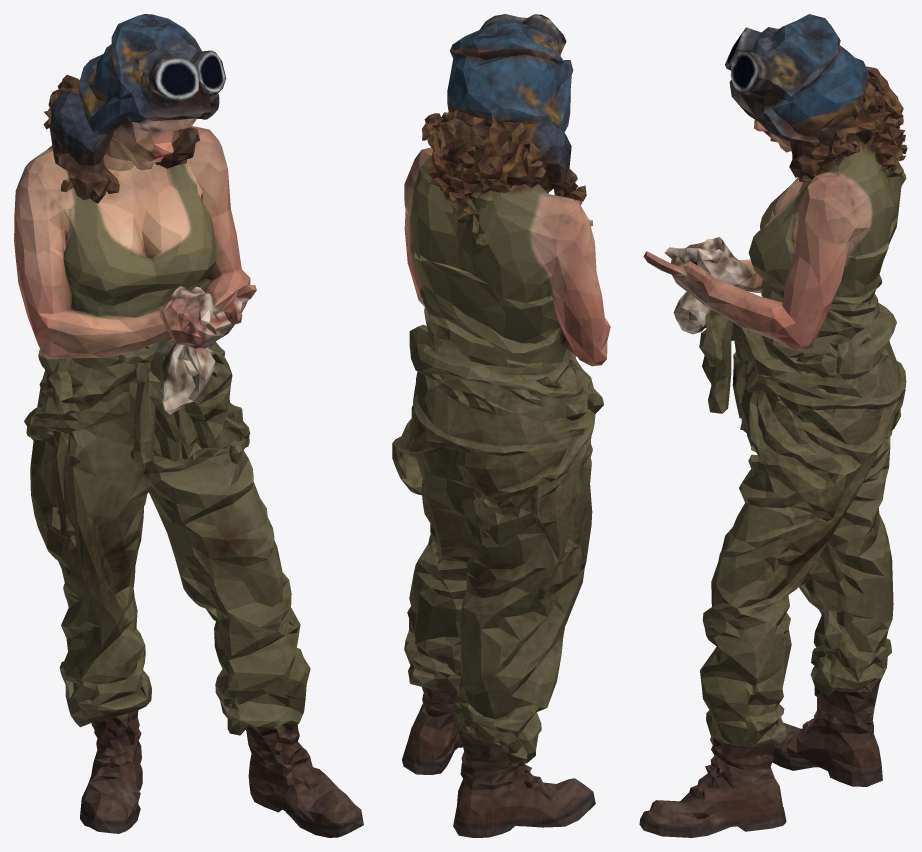
The model's file is crew_us_driver_4_idle.obj.
The picture shows the model from 3 angles, left to right: view 1: azimuth 30°, elevation 25°; view 2: azimuth 150°, elevation 25°; view 3: azimuth 270°, elevation 25°; orthographic projection. The views are drawn at different scales.
Parts seen in each view (by area): view 1: crew_us_driver_4_idle; view 2: crew_us_driver_4_idle; view 3: crew_us_driver_4_idle.
Part boxes in pixels (<box>): crew_us_driver_4_idle: <box>14,14,363,837</box>; crew_us_driver_4_idle: <box>392,14,610,837</box>; crew_us_driver_4_idle: <box>639,14,907,837</box>.
Bounding box in the file's own units: 0.5773 × 1.72 × 0.5528.
Materials: 1 (1 with a texture image).
